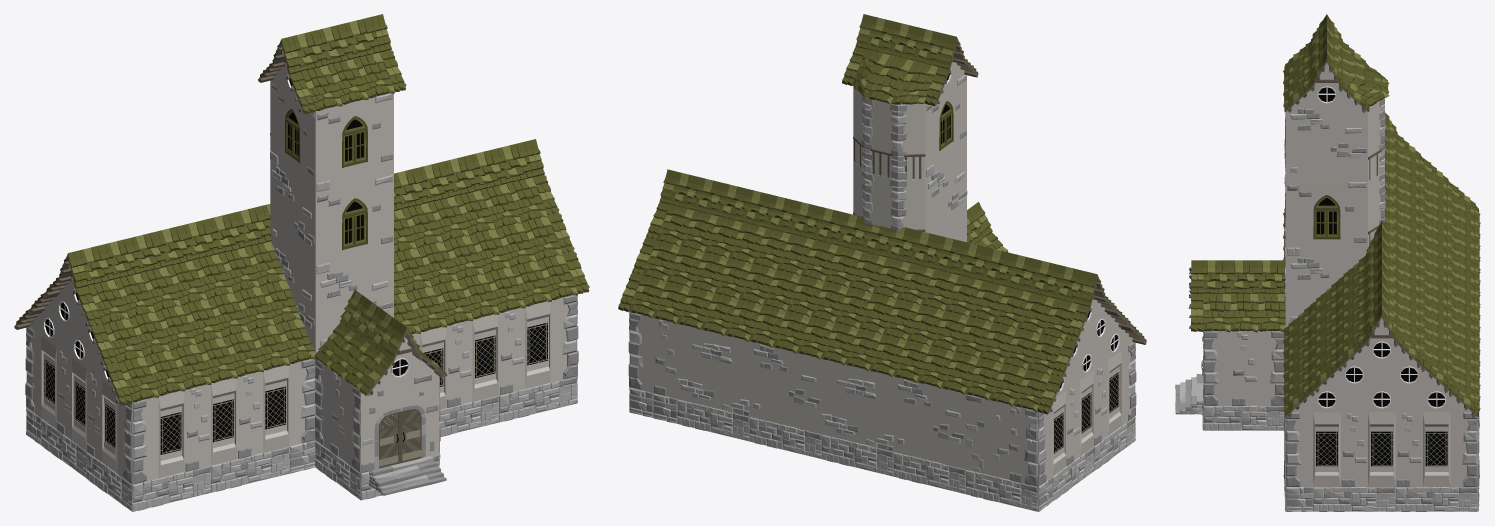
Rendered from House_06.glb.
3 renders of one model, left to right at view 1: azimuth 30°, elevation 25°; view 2: azimuth 150°, elevation 25°; view 3: azimuth 270°, elevation 25°, orthographic. The views are drawn at different scales.
Visible parts, largest first — view 1: DOOR_02_3, WINDOW_02_3, WINDOW_02_2, WALL_01_4, WALL_01_2, WINDOW_02_4, WALL_05_4, WALL_06_6, WINDOW_04_9, WALL_06_5, WINDOW_04_2, WALL_07_7 (+92 smaller); view 2: BALKON_01_1_3, WALL_08_2, WALL_03_3, WALL_01_6, WALL_03_2, WALL_01_5, BALKON_01_1_2, ROOF_base_round_2, WINDOW_02_4, WALL_01_4, WALL_06_13, WALL_05_8 (+87 smaller); view 3: WALL_01_7, WINDOW_02_5, WALL_01_8, WALL_05_7, FOUNDATION_03_3, WALL_06_11, WINDOW_04_11, WINDOW_04_13, WALL_06_12, WINDOW_04_12, WALL_06_4, WALL_05_2 (+27 smaller).
Part boxes in pixels (<box>): DOOR_02_3: <box>361,373,439,472</box>; WINDOW_02_3: <box>314,93,393,192</box>; WINDOW_02_2: <box>316,174,393,274</box>; WALL_01_4: <box>270,160,317,275</box>; WALL_01_2: <box>315,256,393,351</box>; WINDOW_02_4: <box>270,80,317,193</box>; WALL_05_4: <box>132,397,158,484</box>; WALL_06_6: <box>184,384,210,471</box>; WINDOW_04_9: <box>472,314,498,401</box>; WALL_06_5: <box>237,371,263,458</box>; WINDOW_04_2: <box>263,365,289,452</box>; WALL_07_7: <box>551,295,577,382</box>; BALKON_01_1_3: <box>853,87,926,179</box>; WALL_08_2: <box>966,394,1038,486</box>; WALL_03_3: <box>677,323,749,416</box>; WALL_01_6: <box>749,341,821,433</box>; WALL_03_2: <box>821,359,893,451</box>; WALL_01_5: <box>894,376,965,468</box>; BALKON_01_1_2: <box>853,161,925,232</box>; ROOF_base_round_2: <box>852,49,938,104</box>; WINDOW_02_4: <box>925,74,966,177</box>; WALL_01_4: <box>925,148,967,237</box>; WALL_06_13: <box>653,318,677,398</box>; WALL_05_8: <box>629,312,653,392</box>; WALL_01_7: <box>1285,107,1367,181</box>; WINDOW_02_5: <box>1285,181,1367,256</box>; WALL_01_8: <box>1285,256,1363,327</box>; WALL_05_7: <box>1285,412,1313,486</box>; FOUNDATION_03_3: <box>1203,405,1284,430</box>; WALL_06_11: <box>1395,412,1422,486</box>; WINDOW_04_11: <box>1423,412,1450,486</box>; WINDOW_04_13: <box>1313,412,1340,486</box>; WALL_06_12: <box>1340,412,1367,486</box>; WINDOW_04_12: <box>1368,412,1395,486</box>; WALL_06_4: <box>1231,331,1258,405</box>; WALL_05_2: <box>1203,331,1230,405</box>.
Size of the model in its own units: 18.07 by 15.14 by 11.13.
1 material, 1 textured.
